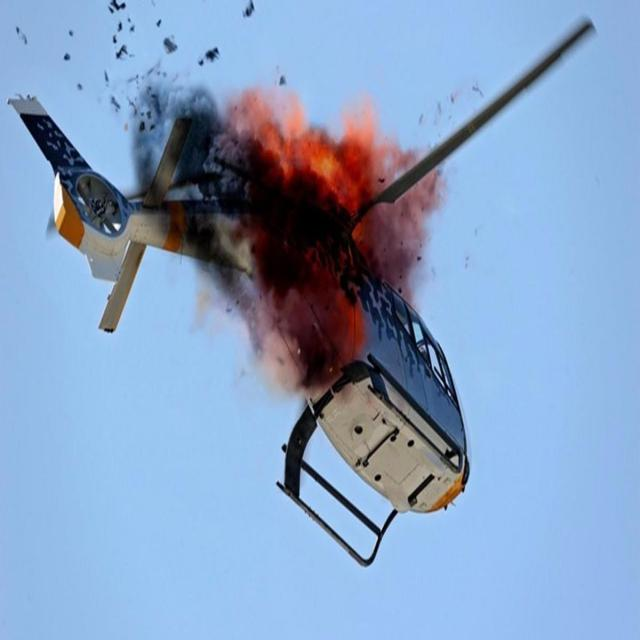MIL_HELO: (0, 0, 626, 576)
